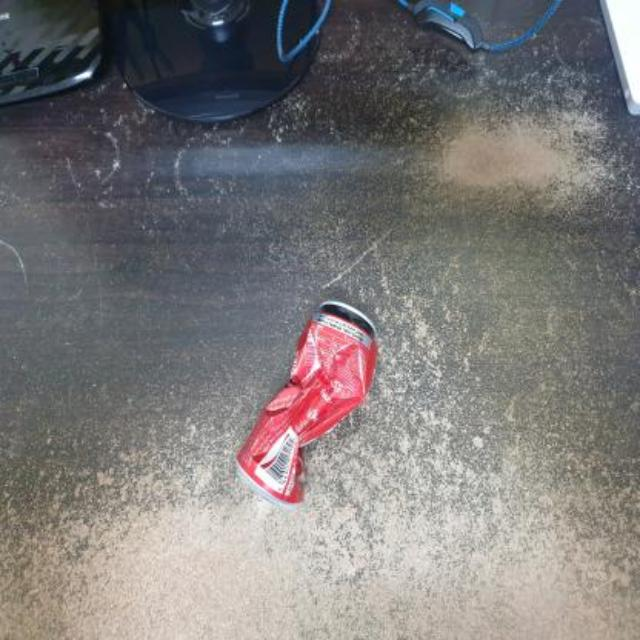metal: (238, 303, 377, 505)
